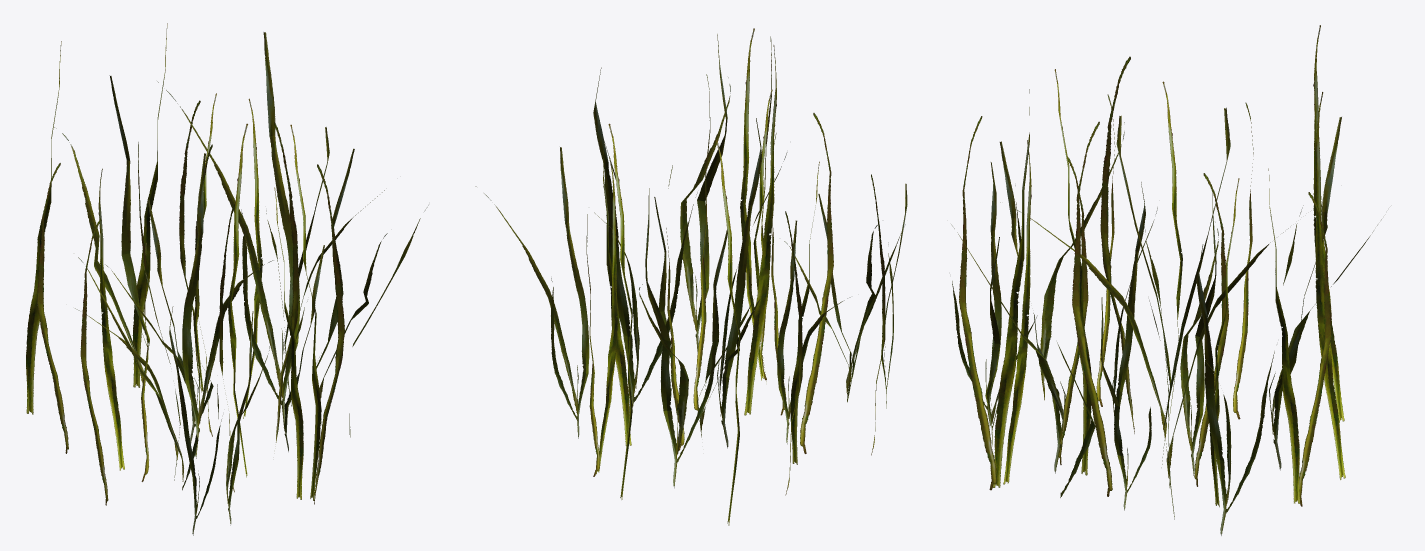
The model's file is Kentucky_LOD0.fbx.
3 views of the same model, side by side, from view 1: azimuth 30°, elevation 25°; view 2: azimuth 150°, elevation 25°; view 3: azimuth 270°, elevation 25° (orthographic). The views are drawn at different scales.
Parts seen in each view (by area): view 1: Kentucky_LOD0; view 2: Kentucky_LOD0; view 3: Kentucky_LOD0.
Boxes of the visible parts, x1,y1,x2,y2 form: Kentucky_LOD0: [26, 23, 428, 535]; Kentucky_LOD0: [475, 28, 907, 525]; Kentucky_LOD0: [951, 25, 1381, 535].
Size of the model in its own units: 0.3311 by 0.3162 by 0.3206.
